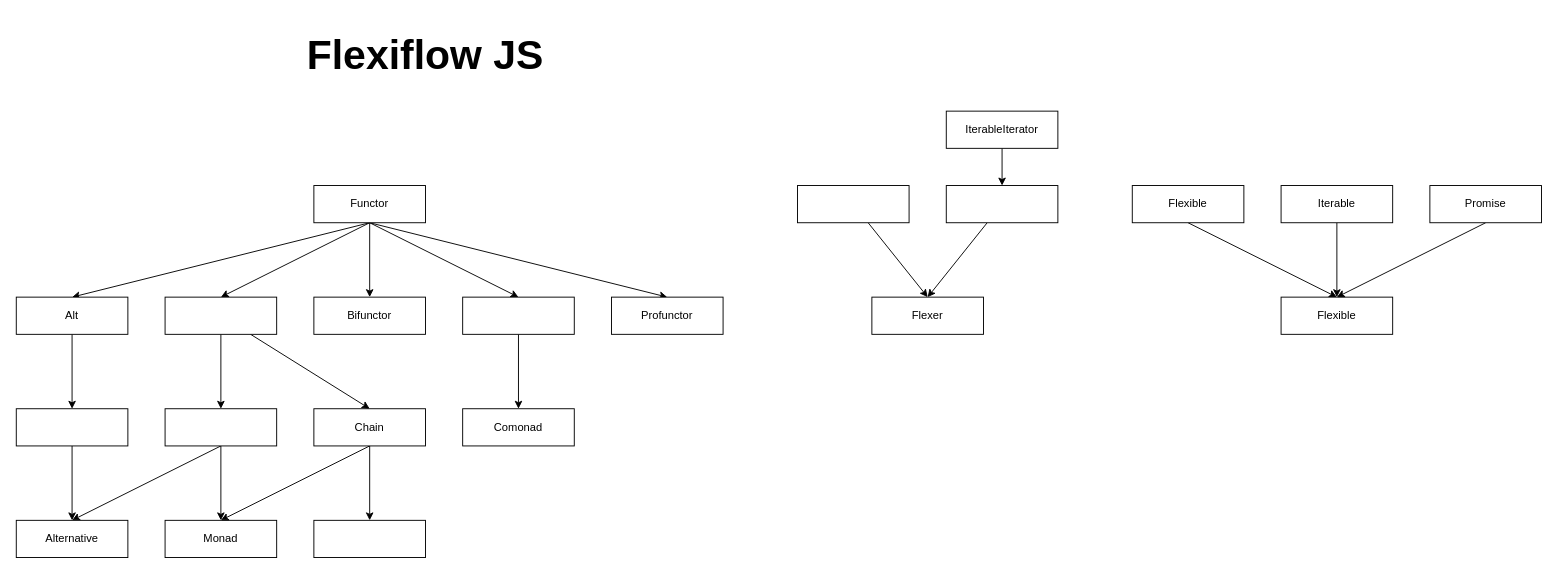
The diagram is 1558 pixels wide and 574 high, and some of its shapes have lost their labels. Each missing label, with the centre of its shape:
"Applicative" belongs at [220,427].
"Apply" belongs at [220,315].
"ChainRec" belongs at [369,538].
"Extend" belongs at [518,315].
"Iterator" belongs at [1001,204].
"Observer" belongs at [853,204].
"Plus" belongs at [71,427].
